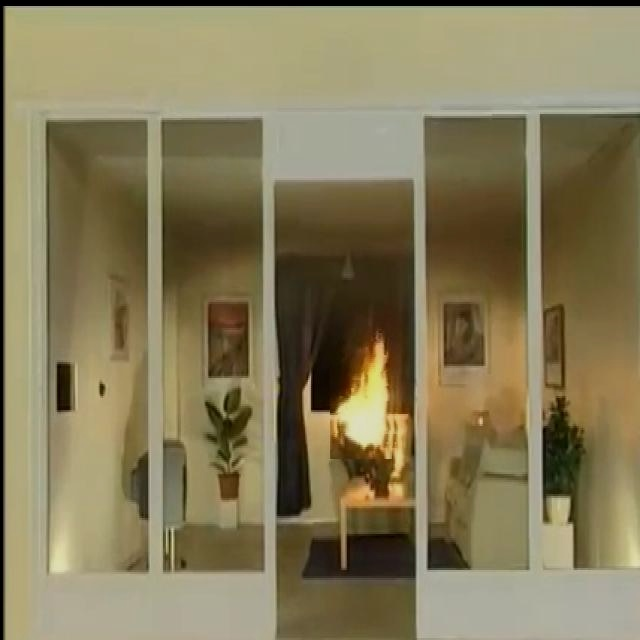fire: (312, 331, 400, 485)
